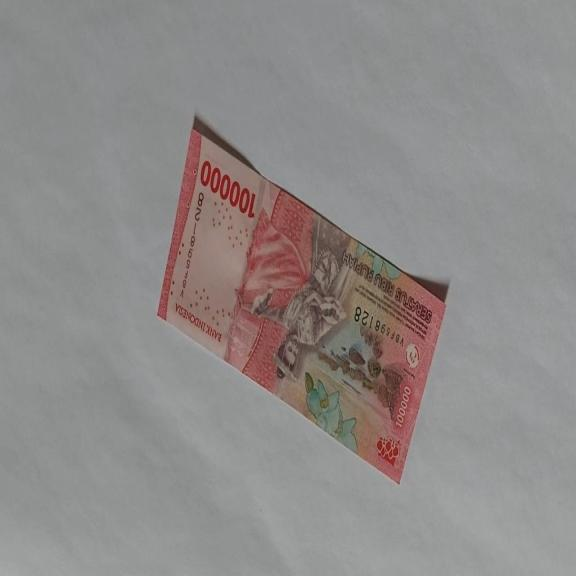Kertas: (157, 114, 448, 484), (199, 158, 256, 220)
